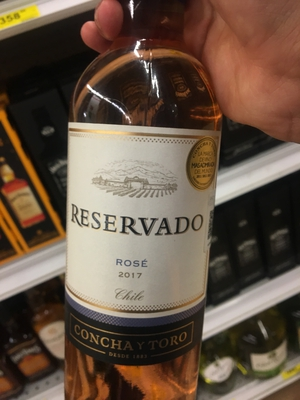reservado rose: (64, 8, 222, 399)
